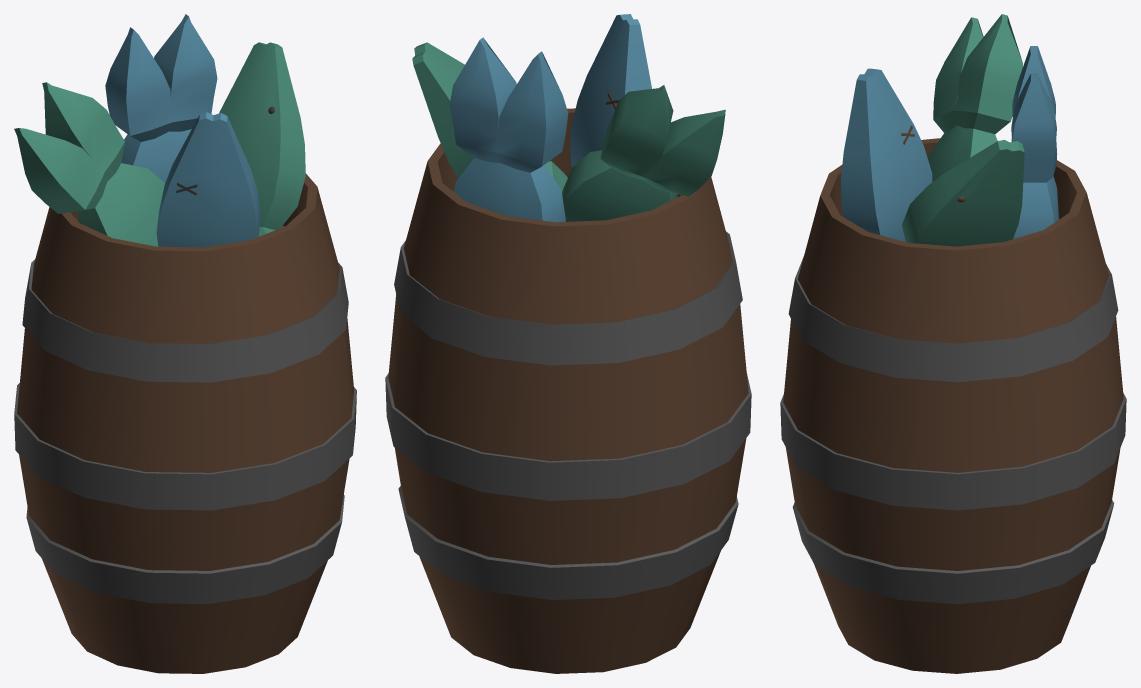
The model's file is Barile + Pesci .fbx.
3 views of the same model, side by side, from view 1: azimuth 30°, elevation 25°; view 2: azimuth 150°, elevation 25°; view 3: azimuth 270°, elevation 25° (orthographic). The views are drawn at different scales.
Visible parts, largest first — view 1: T. Barrel 1 .004; view 2: T. Barrel 1 .004; view 3: T. Barrel 1 .004.
Part boxes in pixels (bbox=[...]): T. Barrel 1 .004: bbox=[14, 14, 356, 673]; T. Barrel 1 .004: bbox=[385, 14, 751, 673]; T. Barrel 1 .004: bbox=[780, 14, 1126, 673].
Size of the model in its own units: 131 by 231 by 127.
